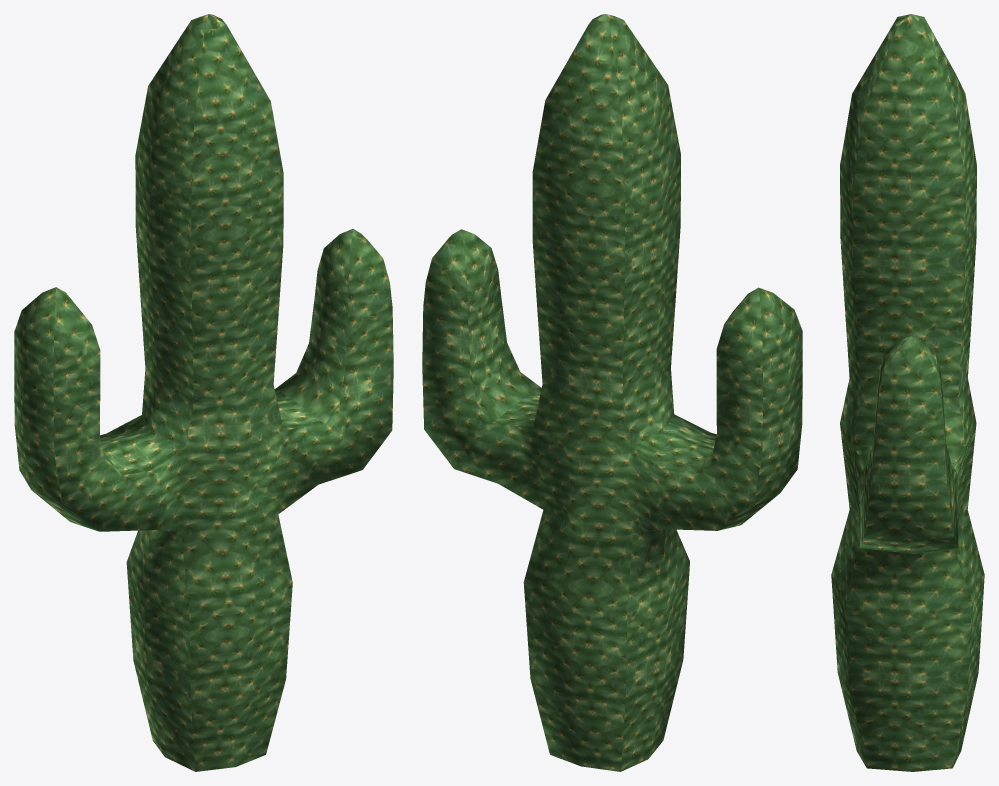
File: VEG0410025.fbx
The picture shows the model from 3 angles, left to right: view 1: azimuth 30°, elevation 25°; view 2: azimuth 150°, elevation 25°; view 3: azimuth 270°, elevation 25°; orthographic projection.
Parts seen in each view (by area): view 1: smVEG0410025; view 2: smVEG0410025; view 3: smVEG0410025.
Boxes of the visible parts, bbox=[...] form: smVEG0410025: bbox=[14, 14, 393, 771]; smVEG0410025: bbox=[422, 14, 802, 771]; smVEG0410025: bbox=[831, 14, 984, 771].
Bounding box in the file's own units: 123 × 243 × 45.86.
Materials: 1 (1 with a texture image).
